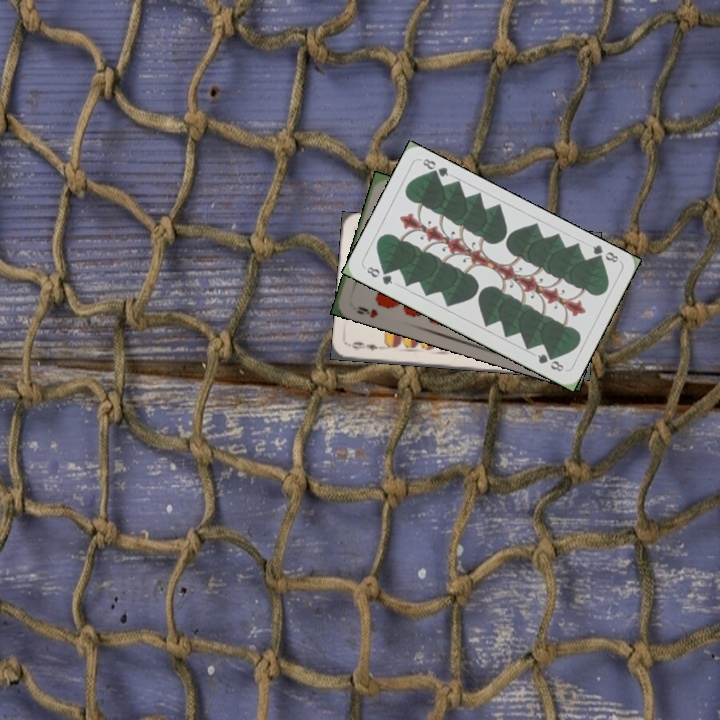E9: (347, 338, 387, 353)
G8: (362, 262, 395, 287), (588, 241, 621, 266)
H9: (353, 302, 380, 320)
